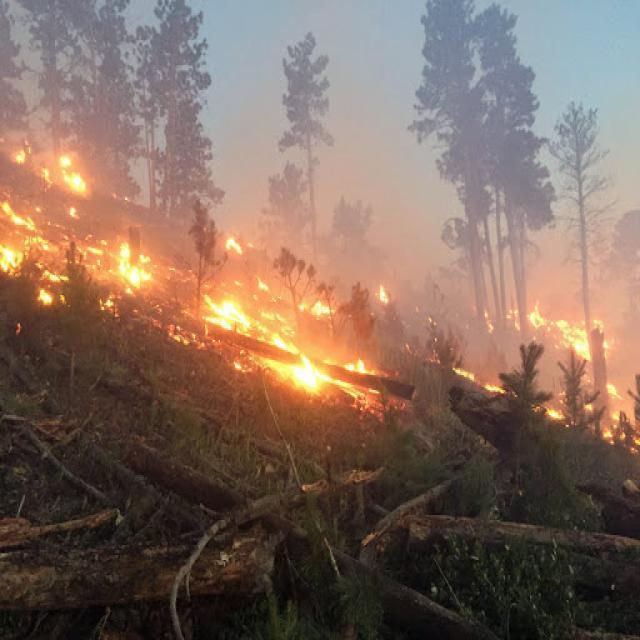Fire: (19, 141, 324, 382), (448, 348, 640, 458), (483, 291, 621, 366), (308, 342, 418, 431), (360, 263, 410, 327)
Smoke: (348, 4, 631, 254), (0, 11, 354, 137)
